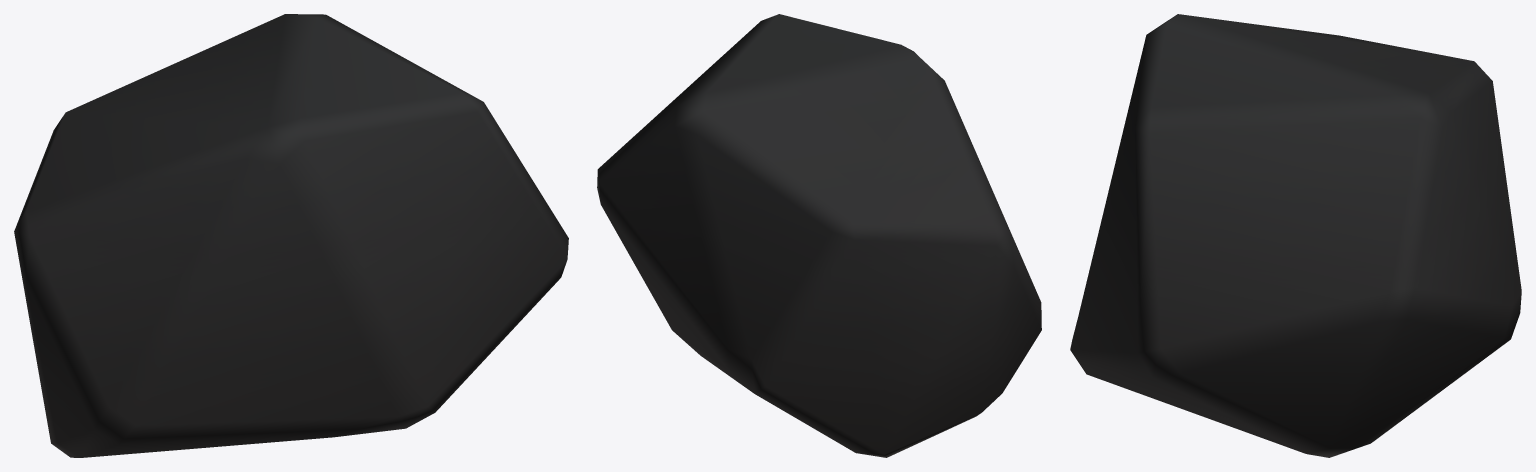
Rendered from StoneSmall_004.glb.
The picture shows the model from 3 angles, left to right: view 1: azimuth 30°, elevation 25°; view 2: azimuth 150°, elevation 25°; view 3: azimuth 270°, elevation 25°; orthographic projection. The views are drawn at different scales.
Visible parts, largest first — view 1: StoneSmall_004; view 2: StoneSmall_004; view 3: StoneSmall_004.
Boxes of the visible parts, <box> form: StoneSmall_004: <box>14,14,568,457</box>; StoneSmall_004: <box>597,14,1041,457</box>; StoneSmall_004: <box>1070,14,1521,457</box>.
Bounding box in the file's own units: 1.82 × 1.4 × 1.45.
1 material, 1 textured.
